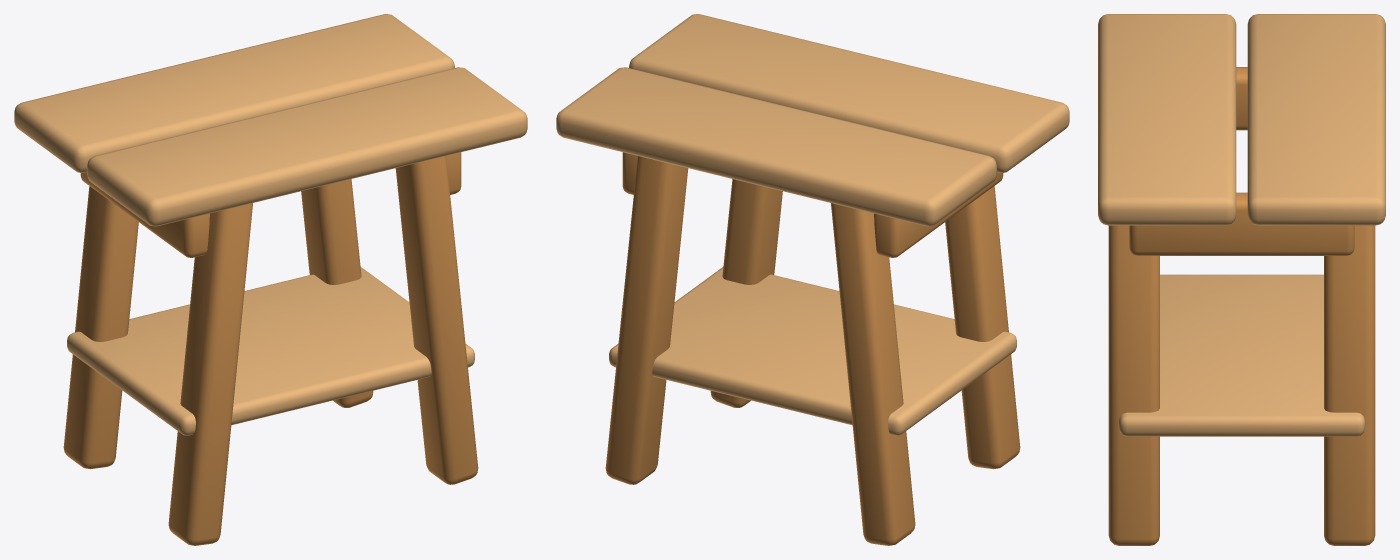
File: banquinho_degrau_madeira.glb
3 views of the same model, side by side, from view 1: azimuth 30°, elevation 25°; view 2: azimuth 150°, elevation 25°; view 3: azimuth 270°, elevation 25° (orthographic). The views are drawn at different scales.
Parts seen in each view (by area): view 1: banquinho_degrau_madeira; view 2: banquinho_degrau_madeira; view 3: banquinho_degrau_madeira.
Boxes of the visible parts, box(x1,y1,x2,y2) form: banquinho_degrau_madeira: box(14, 14, 527, 545); banquinho_degrau_madeira: box(556, 14, 1069, 545); banquinho_degrau_madeira: box(1098, 14, 1385, 545).
Bounding box in the file's own units: 0.44 × 0.401 × 0.281.
1 material, 1 textured.
